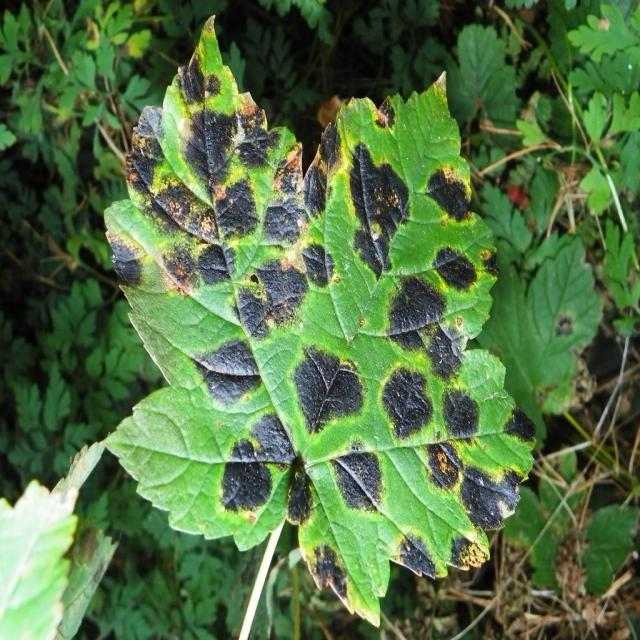Tar_Spot: (98, 13, 538, 629)
